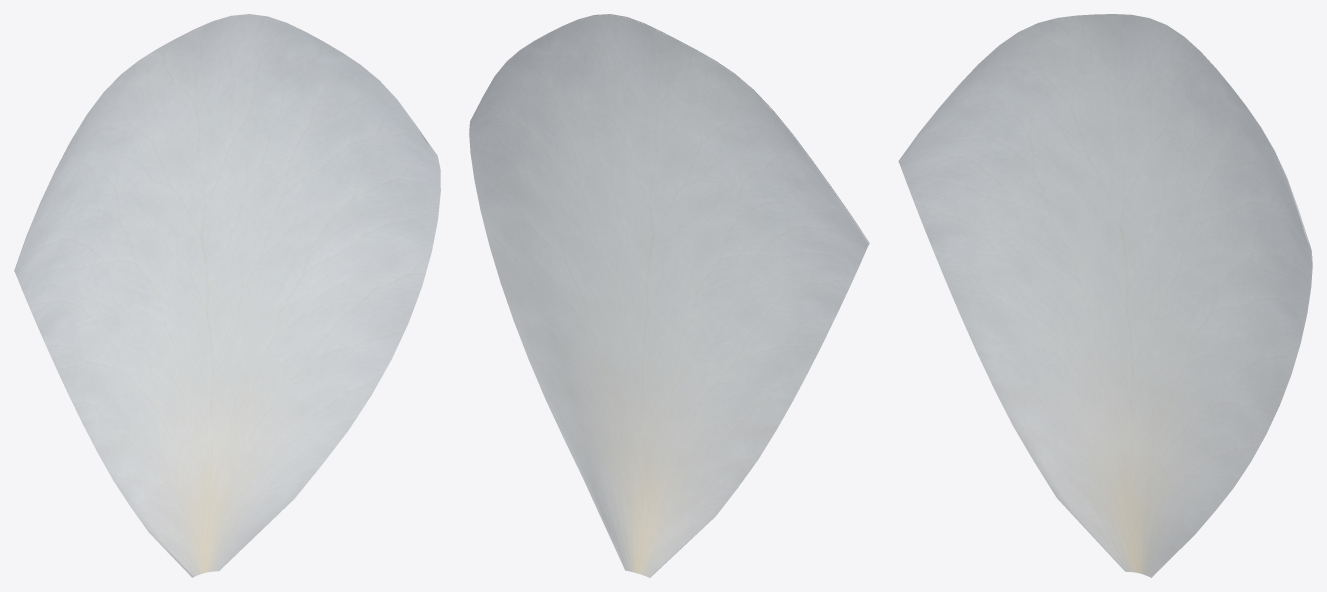
File: middle_01.glb
3 views of the same model, side by side, from view 1: azimuth 30°, elevation 25°; view 2: azimuth 150°, elevation 25°; view 3: azimuth 330°, elevation 25° (orthographic). The views are drawn at different scales.
Parts seen in each view (by area): view 1: middle_01; view 2: middle_01; view 3: middle_01.
Boxes of the visible parts, x1=… form: middle_01: x1=14, y1=14, x2=440, y2=577; middle_01: x1=469, y1=14, x2=869, y2=577; middle_01: x1=898, y1=14, x2=1312, y2=577.
Size of the model in its own units: 0.0638 by 0.0819 by 0.00903.
1 material, 1 textured.
